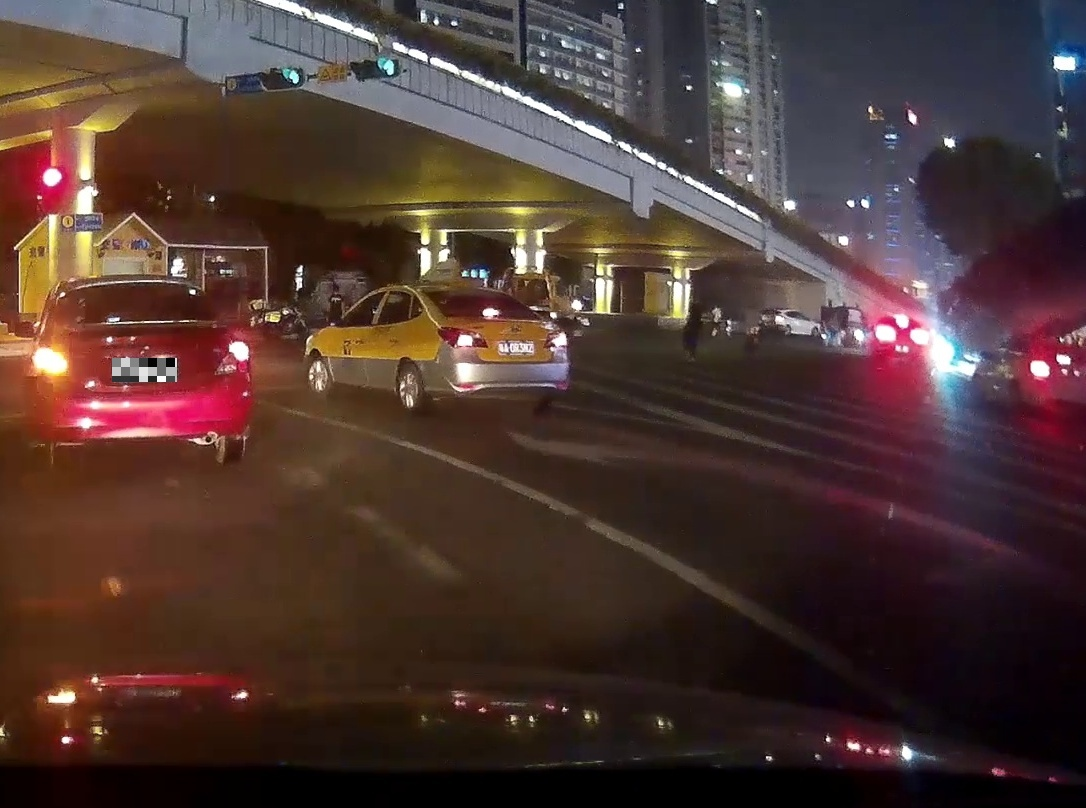L_light: (437, 326, 488, 348), (32, 348, 68, 375)
R_light: (213, 341, 249, 375), (542, 329, 568, 348)
T_light: (116, 282, 145, 288), (482, 309, 499, 316)
night-brake: (416, 285, 569, 412)
night-left: (28, 274, 253, 471)
plate_1: (112, 358, 177, 382)
